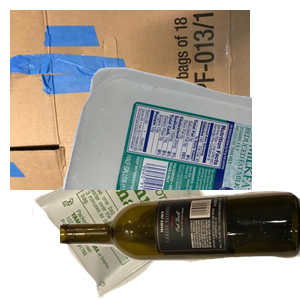cardboard: (10, 10, 250, 190)
glass: (60, 189, 300, 300)
plastic: (60, 65, 300, 245)
trash: (29, 124, 238, 300)
